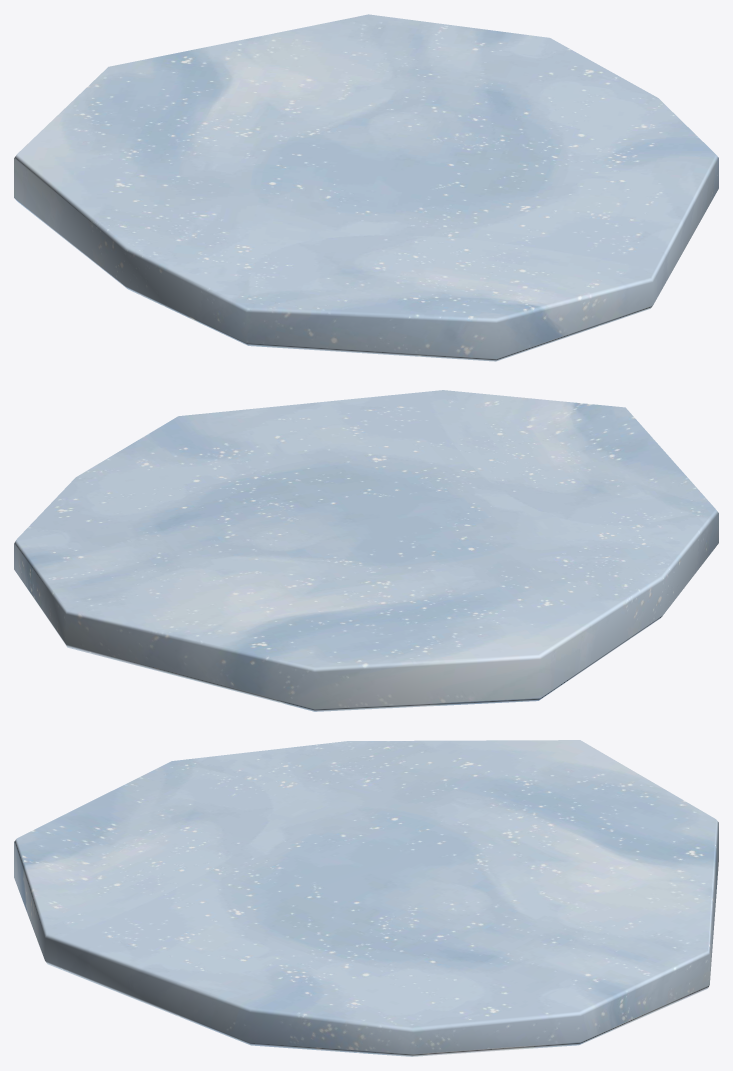
The model's file is P_ENV_ice_02.gltf.
3 renders of one model, top to bottom at view 1: azimuth 30°, elevation 25°; view 2: azimuth 150°, elevation 25°; view 3: azimuth 270°, elevation 25°, orthographic.
Parts seen in each view (by area): view 1: P_ENV_ice_02(Clone); view 2: P_ENV_ice_02(Clone); view 3: P_ENV_ice_02(Clone).
Boxes of the visible parts, <box> form: P_ENV_ice_02(Clone): <box>14,14,718,361</box>; P_ENV_ice_02(Clone): <box>14,390,718,711</box>; P_ENV_ice_02(Clone): <box>14,740,718,1056</box>.
Bounding box in the file's own units: 2.57 × 0.2056 × 2.78.
Materials: 1 (1 with a texture image).
